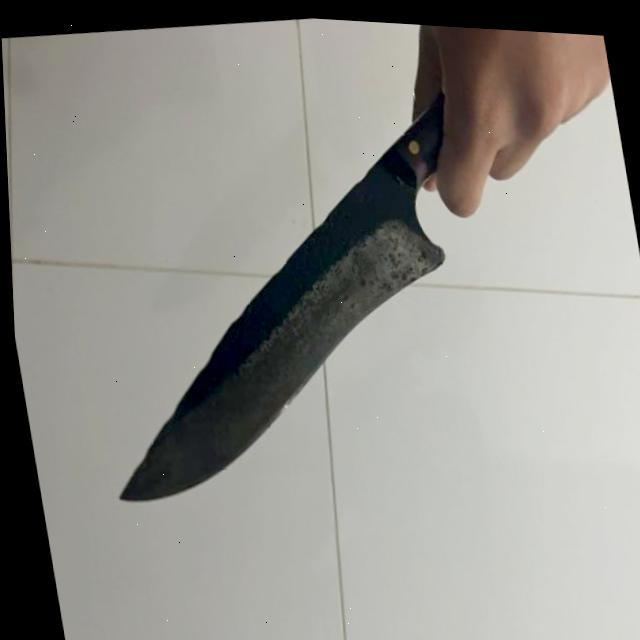knife: (66, 146, 458, 518)
